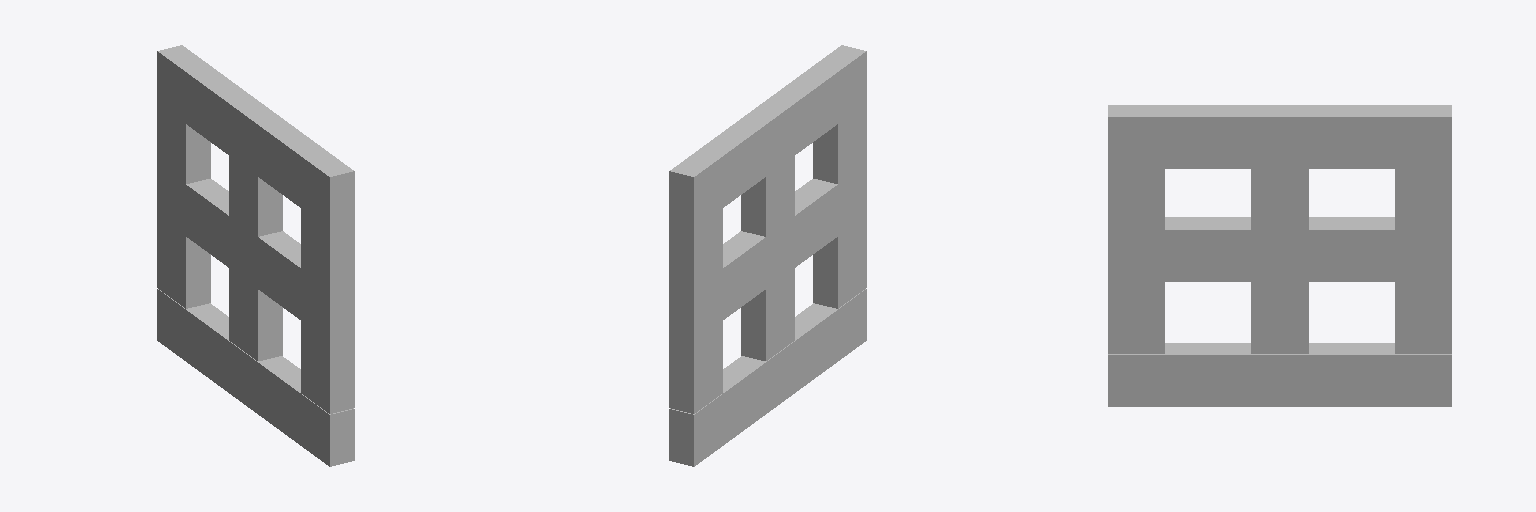
Rendered from window.obj.
The picture shows the model from 3 angles: view 1: azimuth 30°, elevation 25°; view 2: azimuth 150°, elevation 25°; view 3: azimuth 270°, elevation 25°; orthographic projection.
Visible parts, largest first — view 1: Cube.004_Cube.005; view 2: Cube.004_Cube.005; view 3: Cube.004_Cube.005.
Boxes of the visible parts, box(x1,y1,x2,y2) form: Cube.004_Cube.005: box(157, 45, 354, 466); Cube.004_Cube.005: box(669, 45, 866, 466); Cube.004_Cube.005: box(1108, 105, 1451, 406).
Bounding box in the file's own units: 0.2 × 2.23 × 2.4.